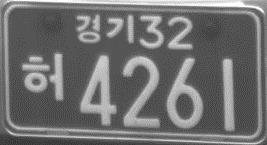1: (219, 56, 239, 133)
2: (121, 54, 163, 130), (166, 15, 194, 50)
3: (137, 13, 166, 49)
4: (79, 54, 117, 127)
6: (165, 56, 205, 130)
경기_O: (75, 13, 136, 44)
허: (21, 52, 65, 102)
